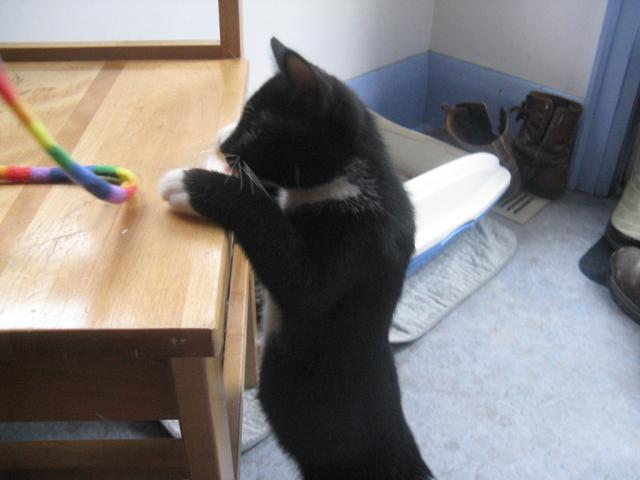Cat: (156, 36, 438, 480)
